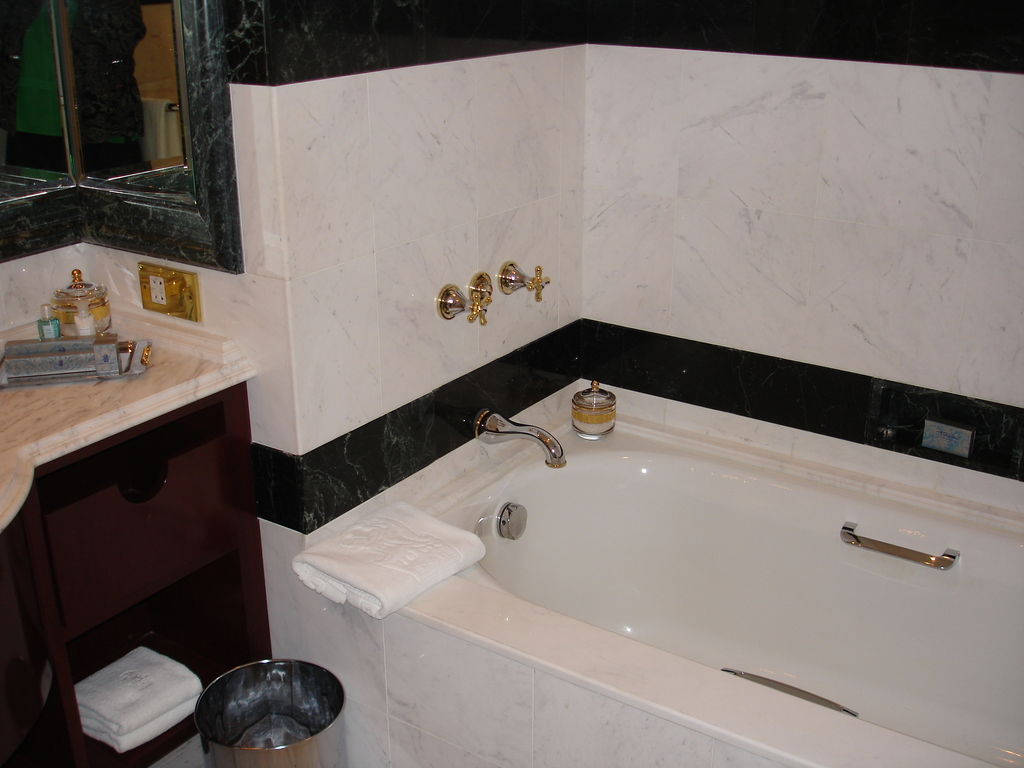tap: (472, 410, 573, 469)
